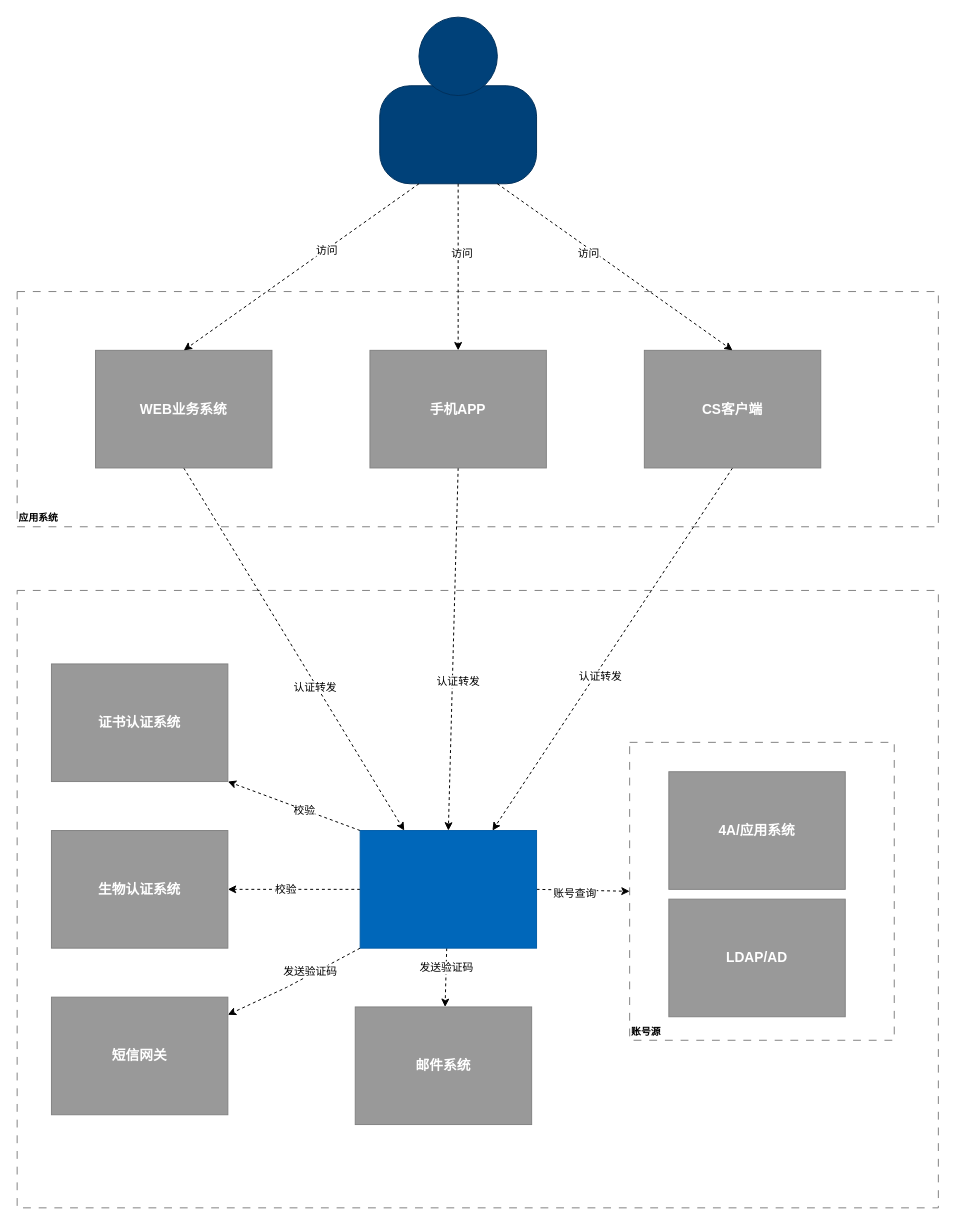
This 956x1225 diagram has some shape labels left out. The centre of each missing label's shape, as x and y in pixels:
用户: point (458, 134)
认证中心: point (448, 889)
